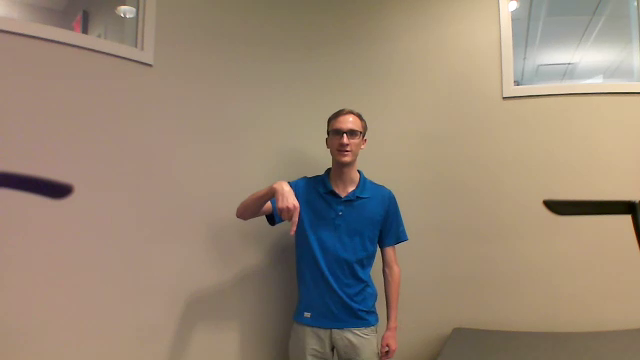down: (260, 174, 306, 240)
